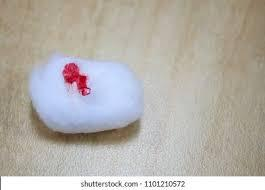cotton: (0, 0, 264, 175), (30, 55, 142, 132), (63, 63, 90, 95)
